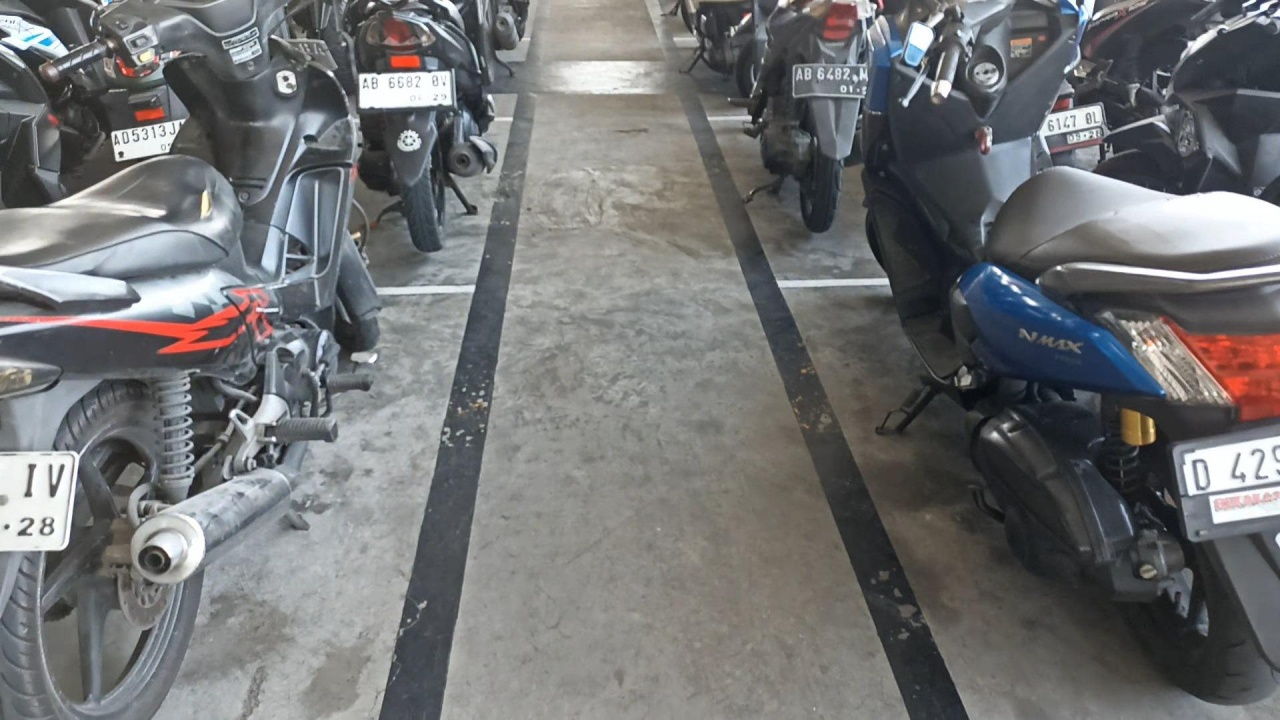plate: (359, 68, 456, 112)
